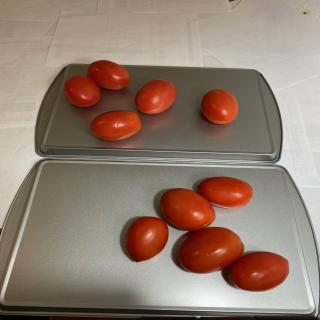Tomato: (178, 227, 244, 274), (228, 251, 290, 292), (160, 188, 216, 231), (124, 216, 168, 262), (197, 176, 253, 209), (90, 110, 142, 141), (135, 79, 176, 114), (86, 60, 130, 90), (201, 89, 238, 124), (64, 75, 100, 108)
